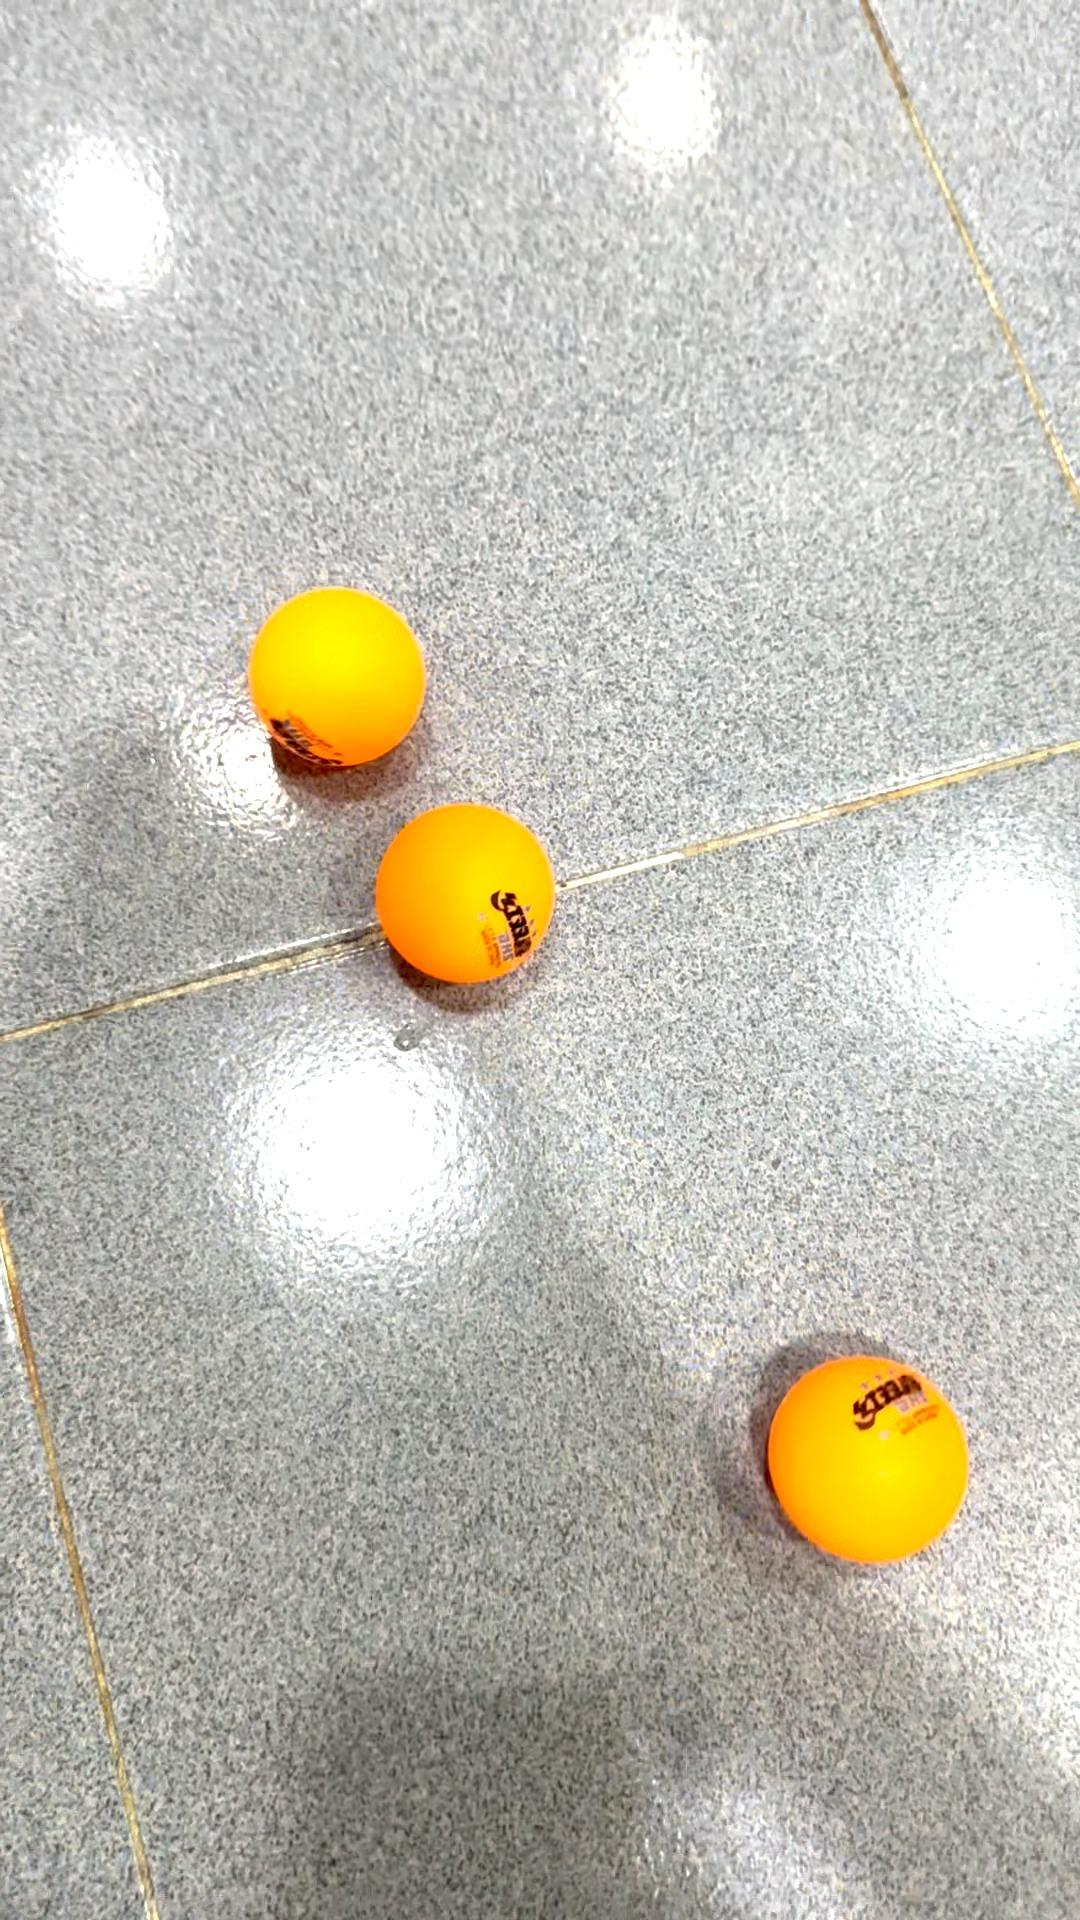oball: (761, 1352, 977, 1573), (241, 575, 442, 779), (375, 811, 572, 997)
